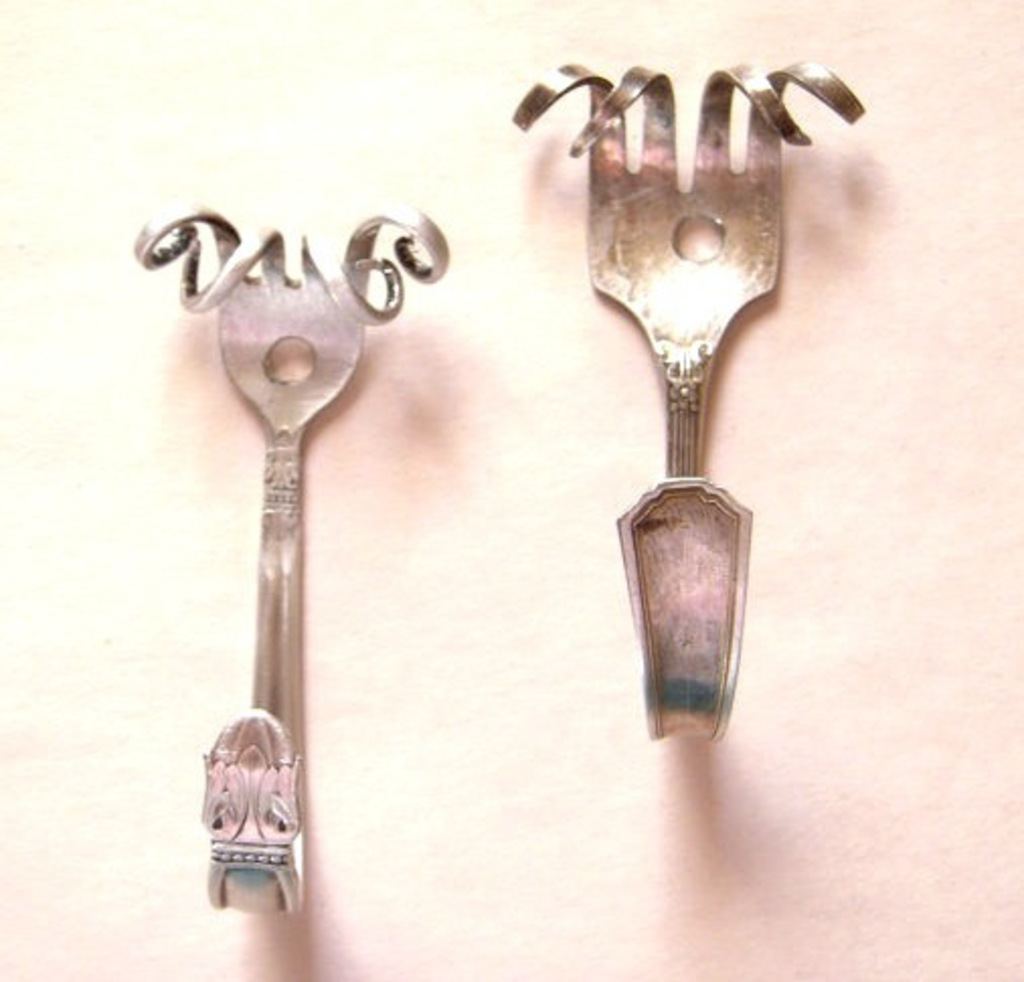fork: (509, 61, 865, 741)
